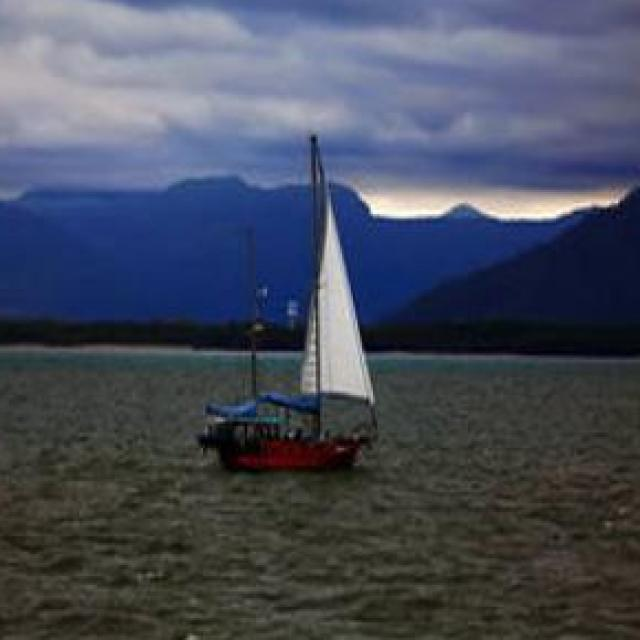sailboat: (194, 129, 383, 471)
